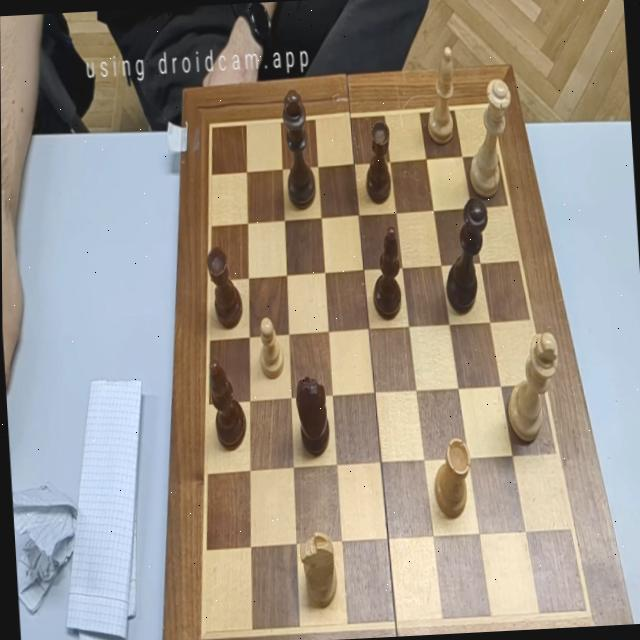black_bishop: (206, 355, 248, 453), (368, 225, 405, 323)
black_king: (280, 87, 317, 211)
black_knight: (294, 374, 331, 460)
black_queen: (439, 194, 493, 314)
black_rook: (205, 244, 242, 331), (361, 121, 393, 207)
white_bishop: (424, 45, 458, 146)
white_king: (502, 328, 563, 446)
white_knight: (299, 530, 338, 610)
white_pawn: (257, 315, 285, 383)
white_queen: (465, 79, 518, 200)
white_rook: (432, 438, 472, 524)
